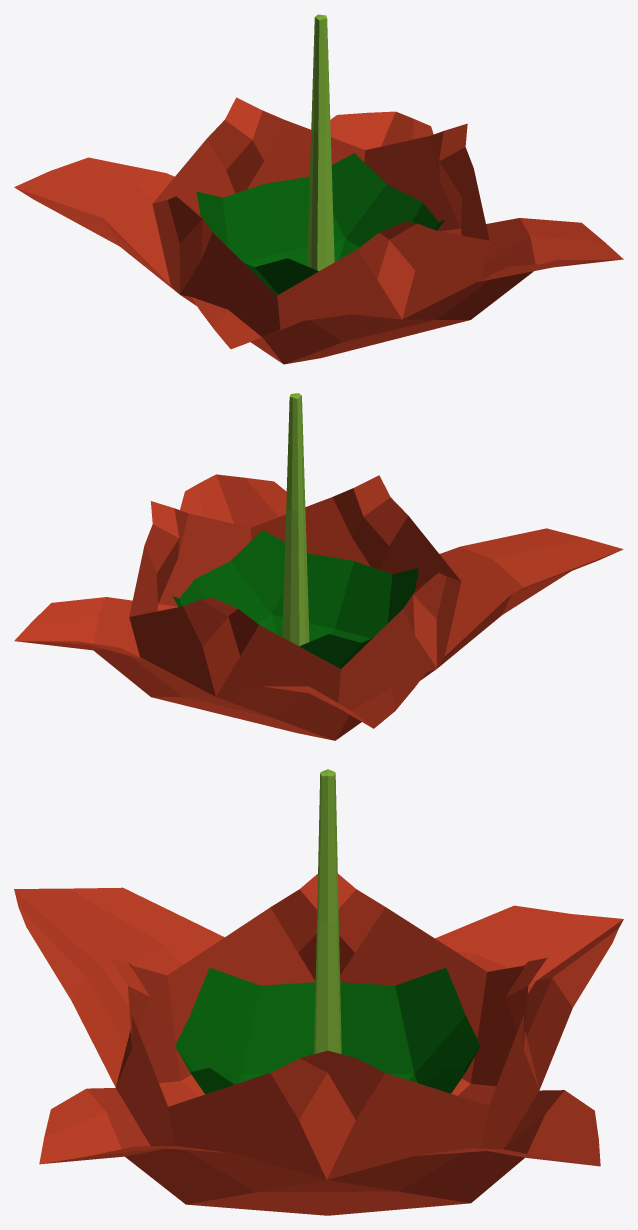
File: red and green flower.fbx
3 views of the same model, one above another, from view 1: azimuth 30°, elevation 25°; view 2: azimuth 150°, elevation 25°; view 3: azimuth 270°, elevation 25° (orthographic). The views are drawn at different scales.
Visible parts, largest first — view 1: flower; view 2: flower; view 3: flower.
Boxes of the visible parts, bbox=[...] form: flower: bbox=[14, 14, 623, 364]; flower: bbox=[14, 393, 623, 740]; flower: bbox=[14, 769, 623, 1215].
Bounding box in the file's own units: 148 × 120 × 149.
